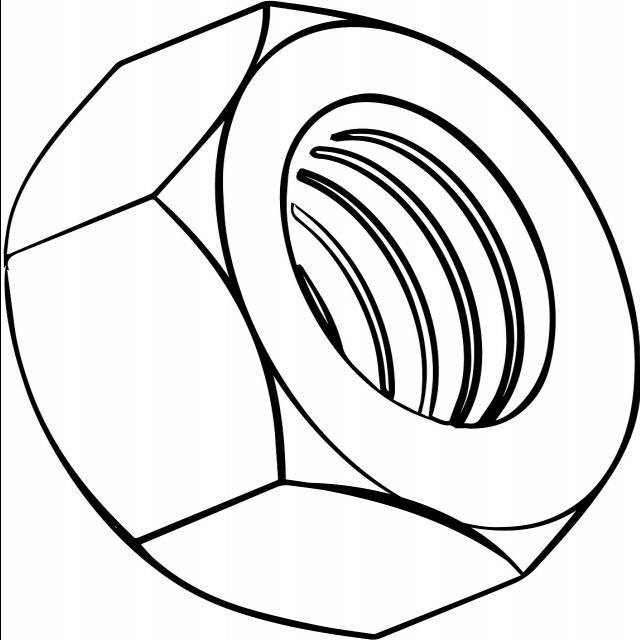nut: (9, 1, 637, 632)
